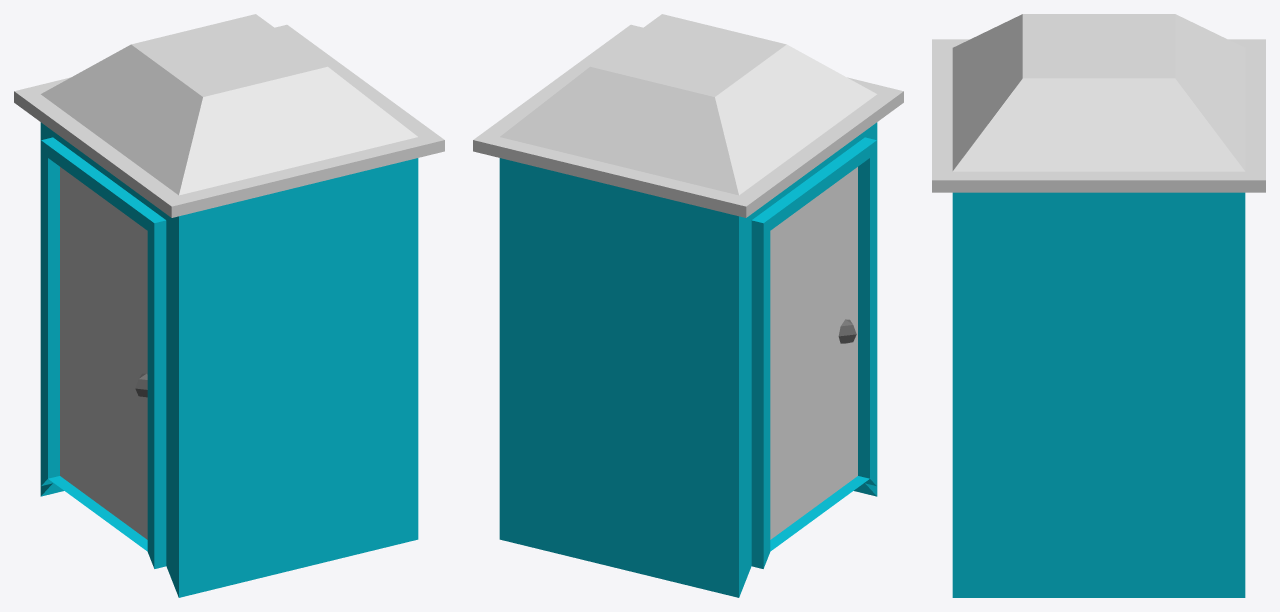
The model's file is Toilet_Kabina.fbx.
3 renders of one model, left to right at view 1: azimuth 30°, elevation 25°; view 2: azimuth 150°, elevation 25°; view 3: azimuth 270°, elevation 25°, orthographic. The views are drawn at different scales.
Parts seen in each view (by area): view 1: Toilet_Kabina; view 2: Toilet_Kabina; view 3: Toilet_Kabina.
Part boxes in pixels (left/top/right/bottom): Toilet_Kabina: left=14, top=14, right=444, bottom=597; Toilet_Kabina: left=473, top=14, right=903, bottom=597; Toilet_Kabina: left=932, top=14, right=1265, bottom=597.
Bounding box in the file's own units: 1.14 × 1.85 × 1.14.
